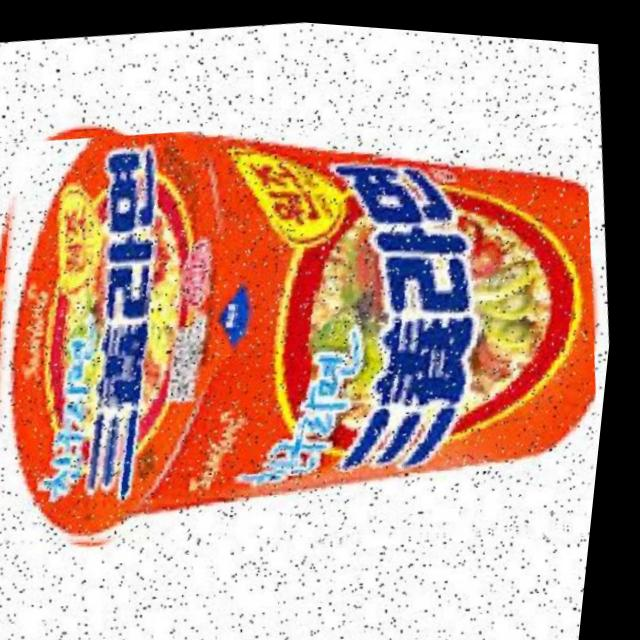Miscellaneous: (0, 61, 635, 602)
